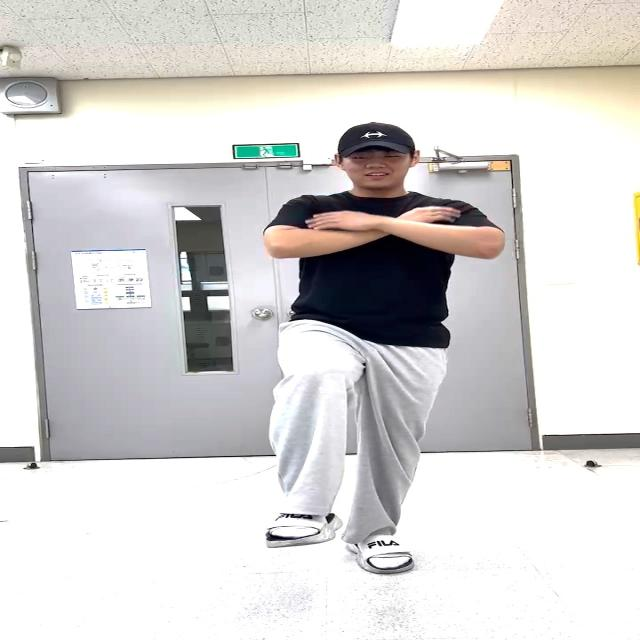leg: (271, 323, 357, 548)
